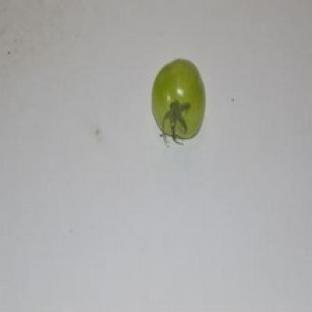Tomato: (152, 59, 204, 143)
